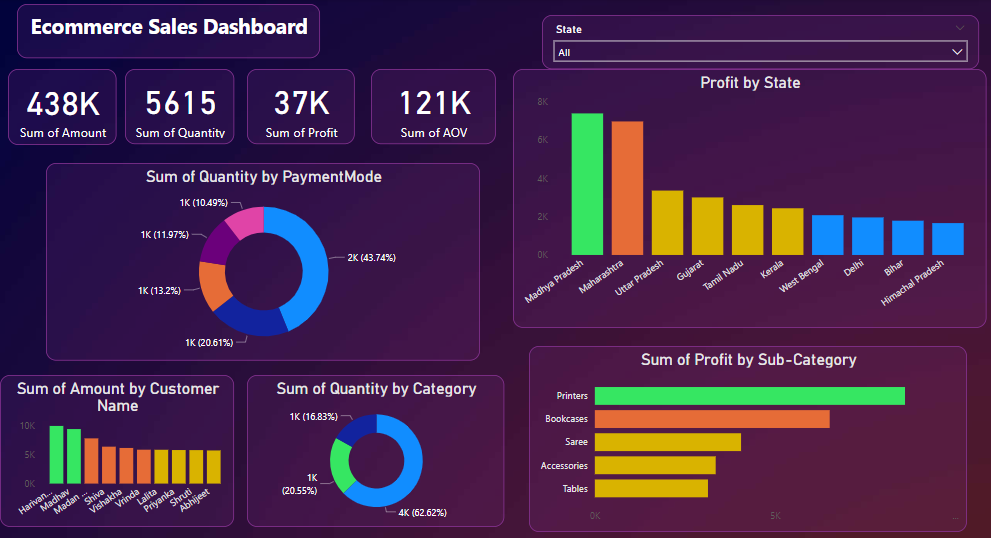

The dashboard page shown, as its layout file describes it:
{"tool":"powerbi","page":{"name":"Page 1","canvas":[1280,720],"ordinal":0},"visuals":[{"type":"textbox","box":[23.5,6.7,390.9,70.5],"z":0},{"type":"columnChart","title":"Profit by State","fields":{"Y":["Details.Profit"],"Category":["Orders.State"]},"box":[662.6,90.6,610.6,333.8],"z":1000},{"type":"barChart","fields":{"Category":["Details.Sub-Category"],"Y":["Details.Profit"]},"box":[684.5,447.9,565.3,239.9],"z":2000},{"type":"donutChart","fields":{"Category":["Details.Category"],"Y":["Details.Quantity"]},"box":[320.4,484.8,332.2,196.3],"z":3000},{"type":"donutChart","fields":{"Y":["Details.Quantity"],"Category":["Details.PaymentMode"]},"box":[60.4,211.4,560.3,255],"z":4000},{"type":"card","fields":{"Values":["Details.Amount"]},"box":[11.3,90.7,140.3,97.8],"z":5000},{"type":"card","fields":{"Values":["Details.Quantity"]},"box":[162.7,90.6,140.9,97.3],"z":6000},{"type":"card","fields":{"Values":["Details.Profit"]},"box":[320.4,90.6,139.2,97.3],"z":7000},{"type":"card","fields":{"Values":["Details.AOV"]},"box":[479.8,90.6,161,97.3],"z":8000},{"type":"columnChart","fields":{"Category":["Orders.Customer Name"],"Y":["Details.Amount"]},"box":[1.7,484.8,302,196.3],"z":9000},{"type":"slicer","fields":{"Values":["Orders.State"]},"box":[701.2,20.1,563.7,70.5],"z":10000}]}

Visuals, with their boxes on the page's 1280x720 design canvas (x1, y1, x2, y2). These are canvas units, not pixel positions in the 991x538 screenshot, which may show the page scaled, cropped or inside an application window:
textbox: detection(24, 7, 414, 77)
"Profit by State" columnChart: detection(663, 91, 1273, 424)
barChart - Details.Sub-Category x Details.Profit: detection(684, 448, 1250, 688)
donutChart - Details.Category x Details.Quantity: detection(320, 485, 653, 681)
donutChart - Details.Quantity x Details.PaymentMode: detection(60, 211, 621, 466)
card - Details.Amount: detection(11, 91, 152, 188)
card - Details.Quantity: detection(163, 91, 304, 188)
card - Details.Profit: detection(320, 91, 460, 188)
card - Details.AOV: detection(480, 91, 641, 188)
columnChart - Orders.Customer Name x Details.Amount: detection(2, 485, 304, 681)
slicer - Orders.State: detection(701, 20, 1265, 91)
